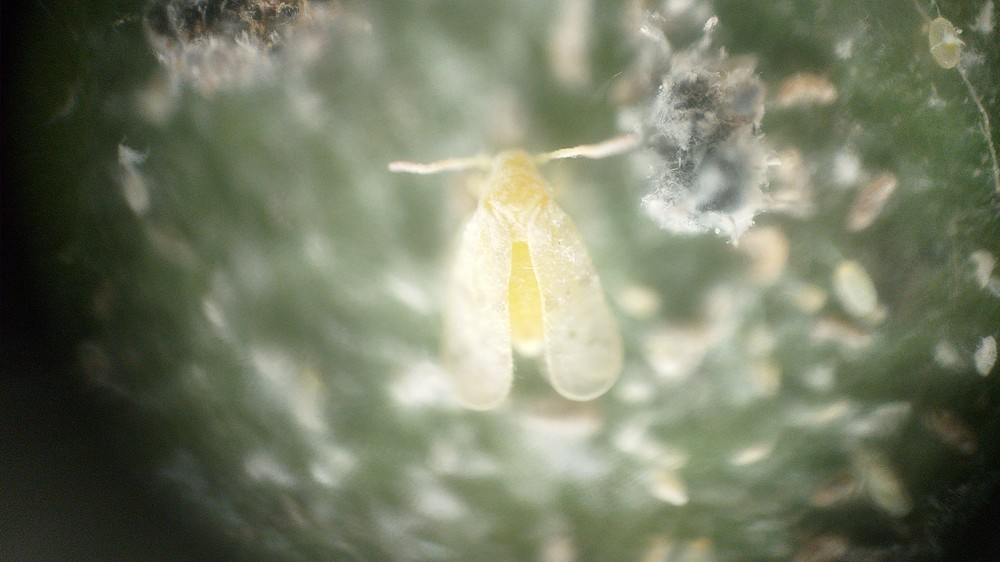Mosca Blanca: (370, 122, 663, 421)
